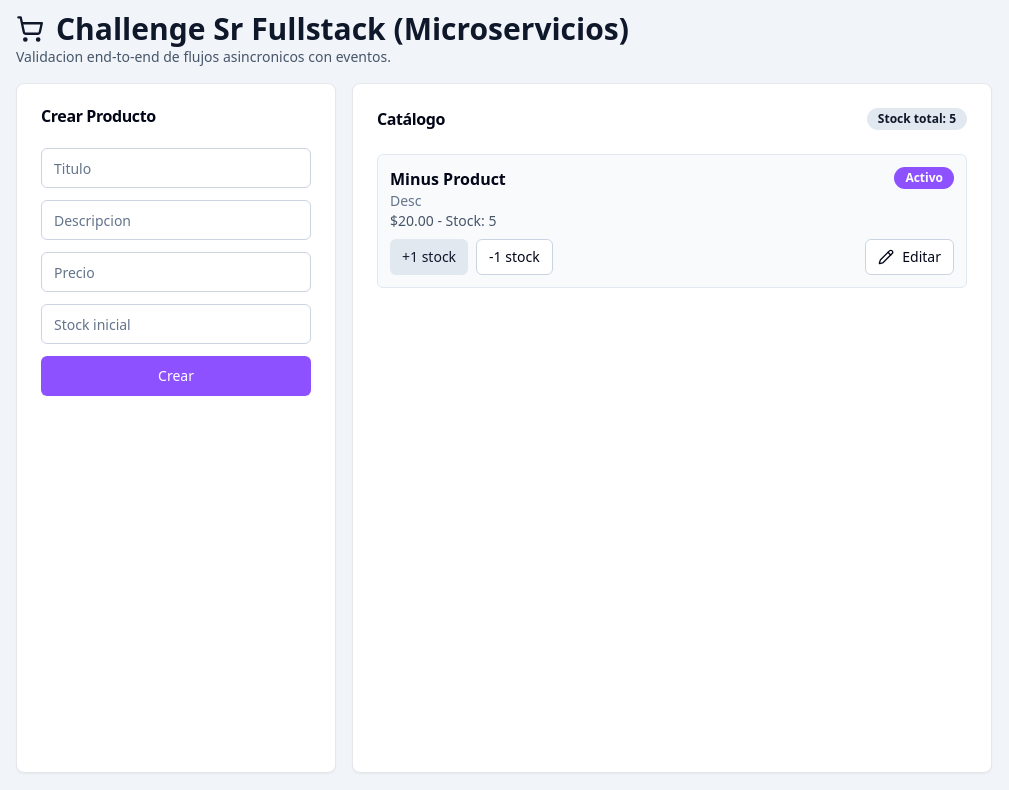
Test: App › decreases only by one on -1 even if API returns zero
Expected: the heading "Minus Product" is shown, [390, 167, 506, 191]
Expected: the text "$20.00 - Stock: 5" is shown, [390, 211, 506, 231]
Click the button "-1 stock" at (514, 257), box [476, 239, 553, 275]
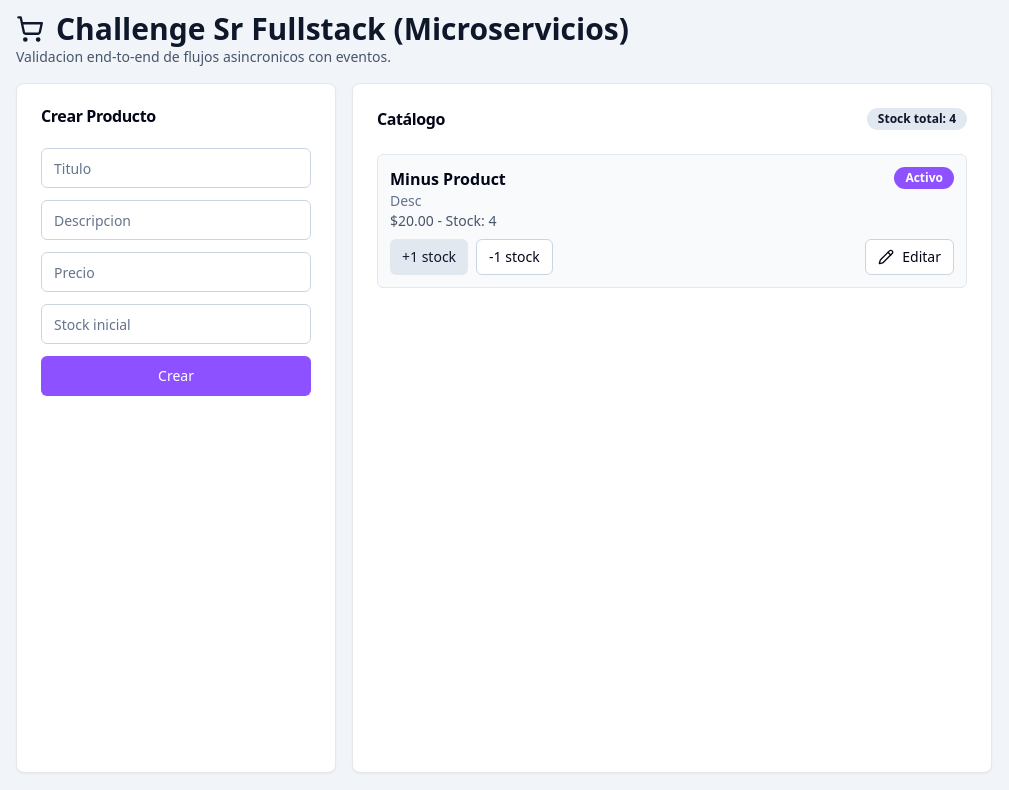
Result: the text "$20.00 - Stock: 4" is shown at [390, 211, 506, 231]
